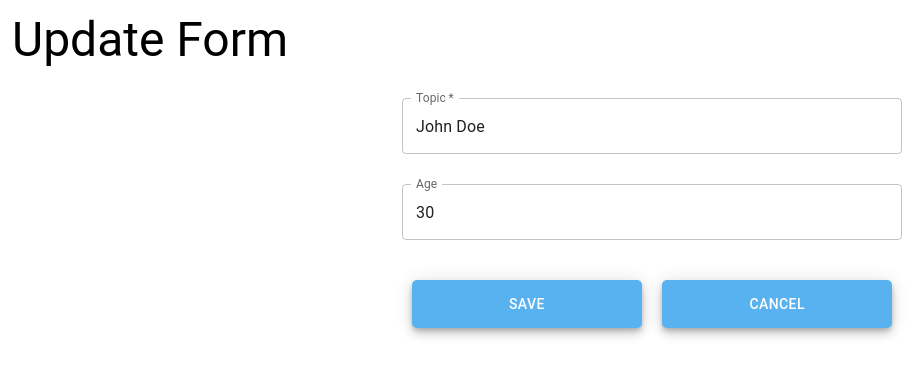
Test: UpdateForm Component › displays error message for invalid age input
This screenshot has width=919, height=378.
Replace the text in the number field labelled "Age" with "15": (652, 212) [402,184,902,240]
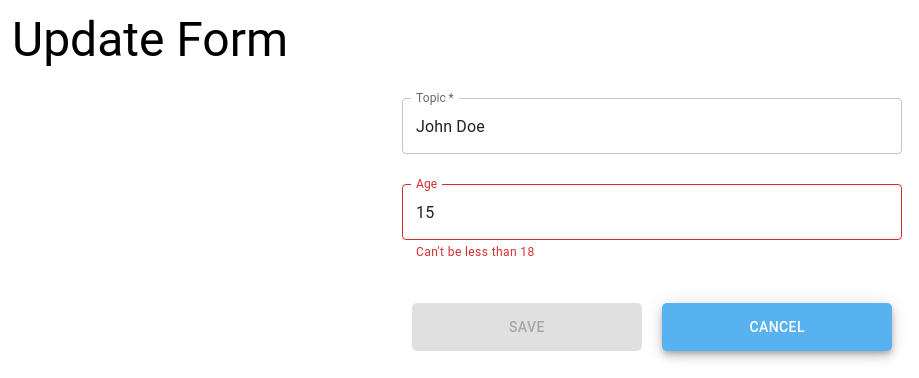
expect the text "Can't be less than 18" is shown: met, box [416,245,535,259]
